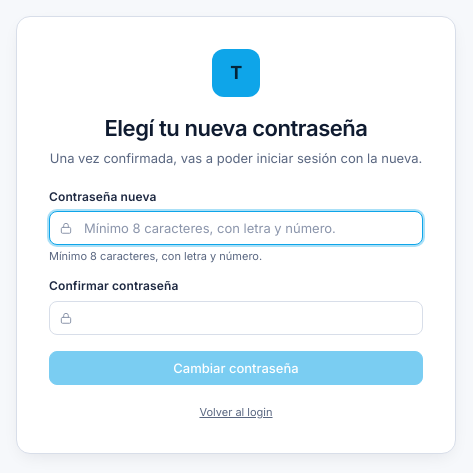
ResetPassword › 400 con fields[] surface field error del backend
Type "MiPass123" into the password field labelled "Contraseña nueva" at (236, 228), box [49,211,423,245]
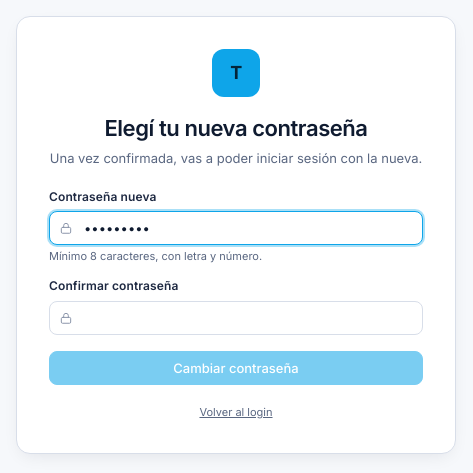
Type "MiPass123" into the password field labelled "Confirmar contraseña" at (236, 318), box [49,301,423,335]
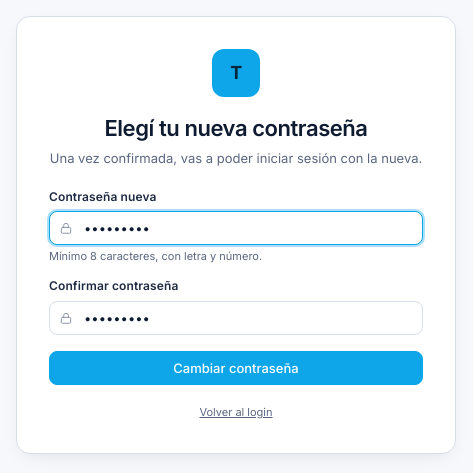
Click the button "Cambiar contraseña" at (236, 368), box [49,351,423,385]
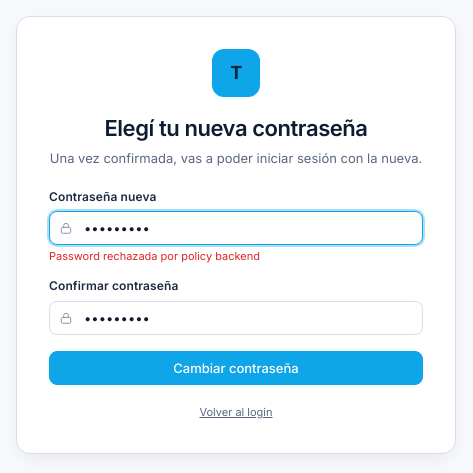
Now the text "Password rechazada por policy backend" is shown, box [49,249,260,263]
